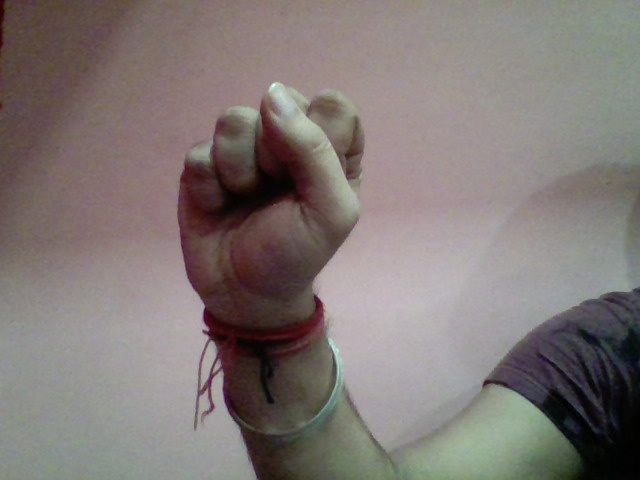s: (158, 72, 382, 312)
